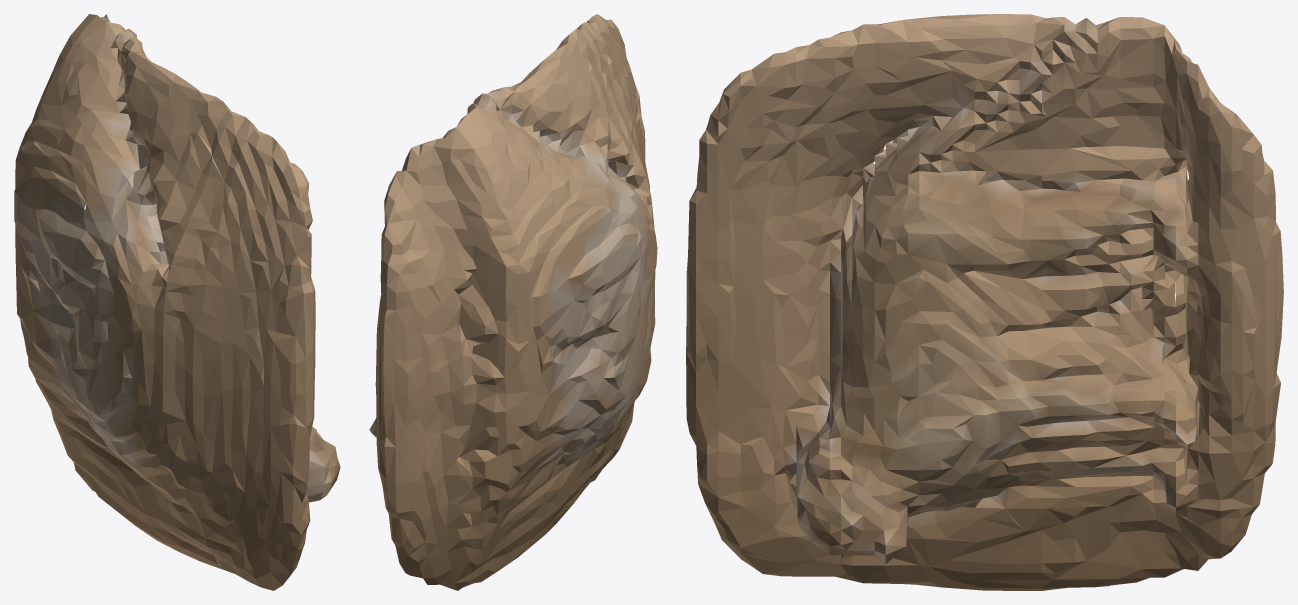
File: monkey.glb
The picture shows the model from 3 angles, left to right: view 1: azimuth 30°, elevation 25°; view 2: azimuth 150°, elevation 25°; view 3: azimuth 270°, elevation 25°; orthographic projection. The views are drawn at different scales.
Visible parts, largest first — view 1: world; view 2: world; view 3: world.
Part boxes in pixels (x1=…): world: x1=14, y1=14, x2=340, y2=590; world: x1=369, y1=14, x2=657, y2=590; world: x1=686, y1=14, x2=1283, y2=590.
Size of the model in its own units: 0.3737 by 0.85 by 0.8042.
